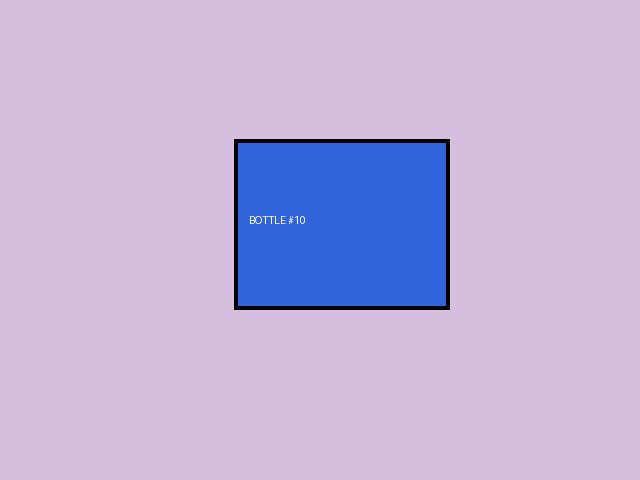bottle: (234, 139, 449, 309)
